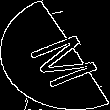M_NE: (12, 23, 98, 87)
